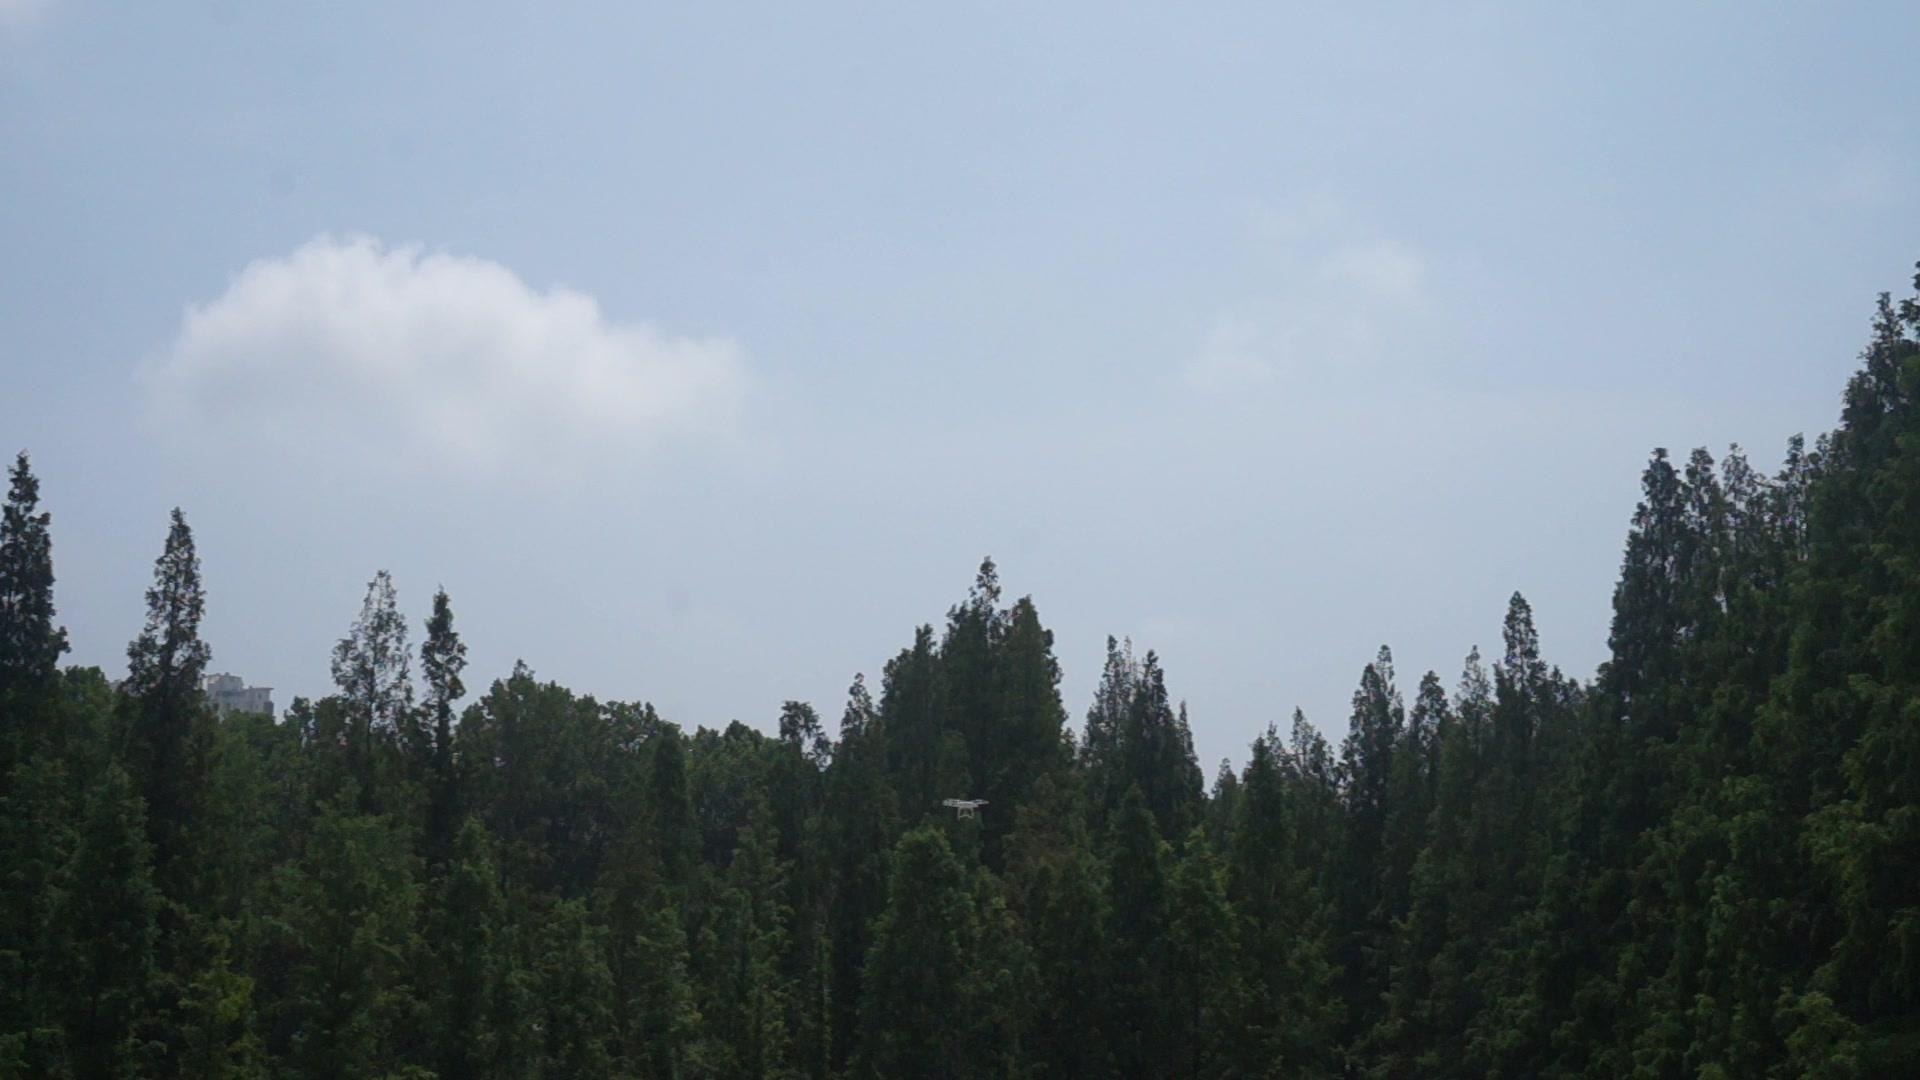UAV: (943, 800, 990, 822)
